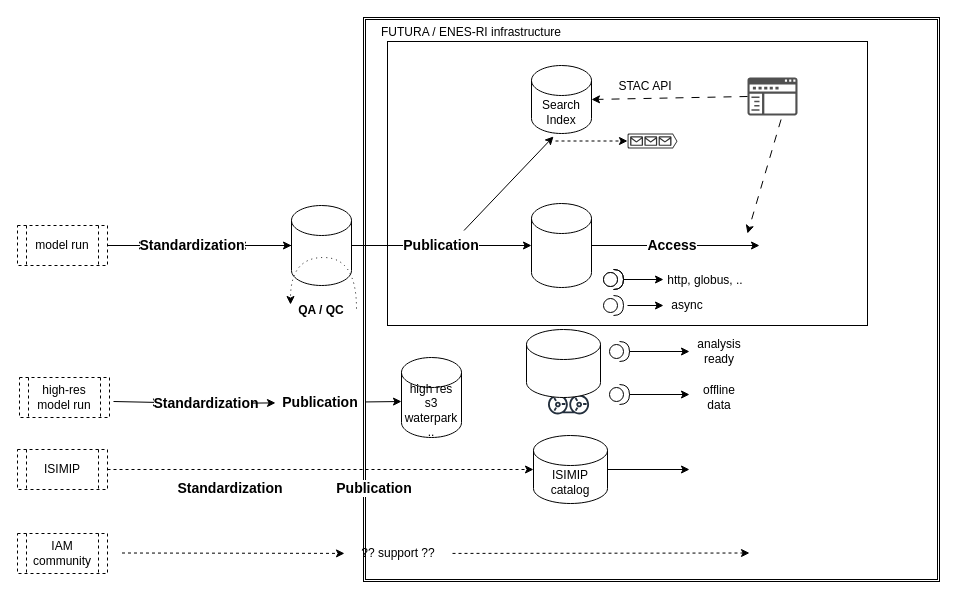
The diagram is 957 pixels wide and 599 high, and some of its shapes have lost their labels. The centre of each missing label's shape, as x and y in pixels:
ESGF Data Node: (561,245)
High Res Search Index: (563,363)
portal: (772,96)
